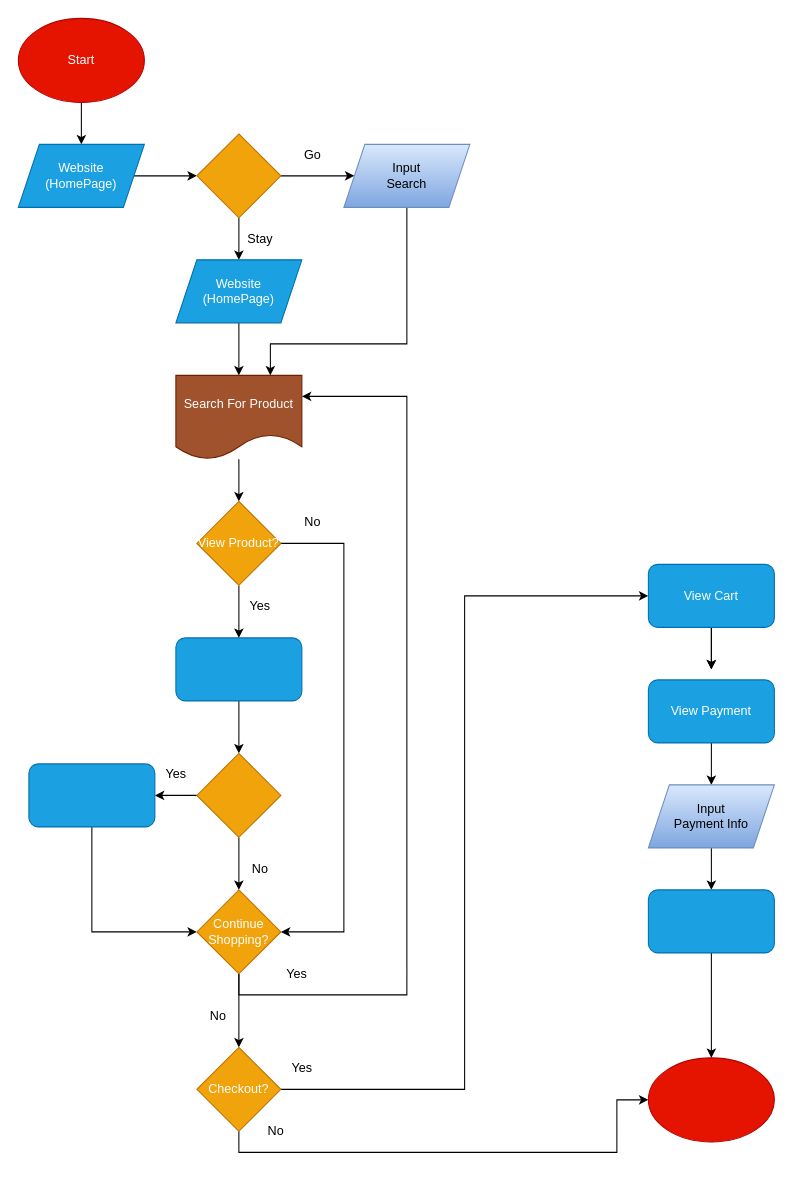
The diagram is 793 pixels wide and 1179 high, and some of its shapes have lost their labels. The shapes that lost their labels are listed below. From the top down, each one's centre as x and y in pixels, then its label:
At [238,175]: "Select Navigation".
At [238,669]: "Product Webpage".
At [91,795]: "Added To Cart".
At [238,794]: "Add To Cart?".
At [710,921]: "Order Confirmation".
At [710,1099]: "End".
